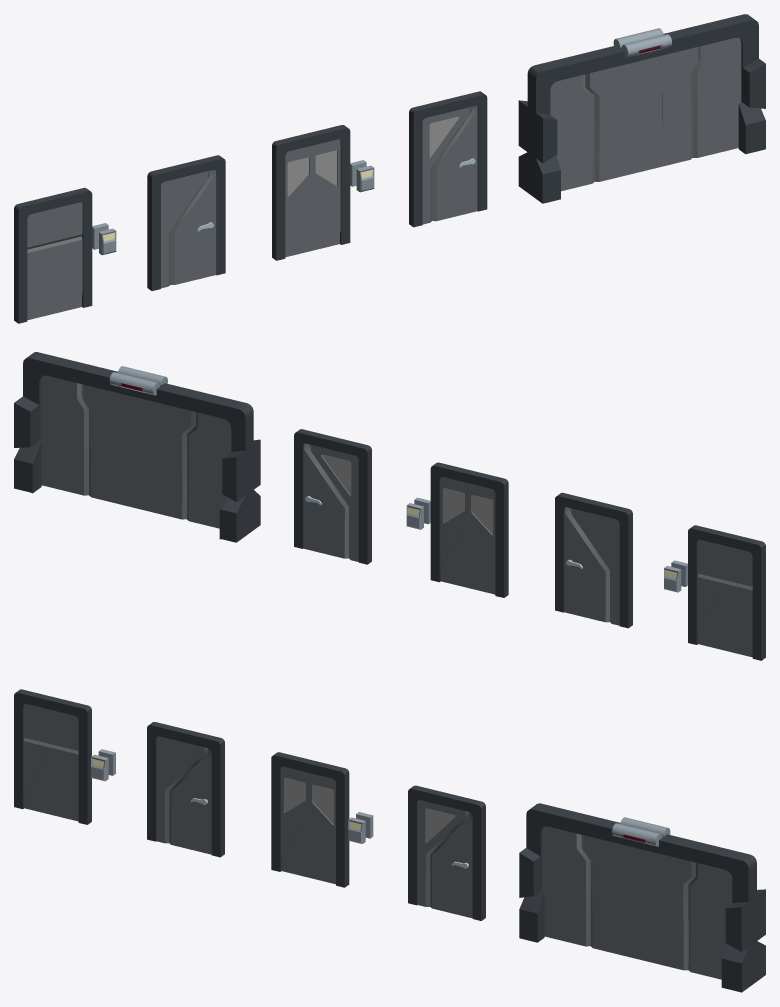
The model's file is DoorsHighPoly.fbx.
3 renders of one model, top to bottom at view 1: azimuth 30°, elevation 25°; view 2: azimuth 150°, elevation 25°; view 3: azimuth 330°, elevation 25°, orthographic.
Parts seen in each view (by area): view 1: Door_Frame_High (×2), Sliding_Door_1_High, Sliding_Door_2_High, Door_High, Door_NoWindow, Sliding_Door_1, Sliding_Door_4, Door_Frame, Door_Frame2, Door_Frame_High1, Sliding_Door_2, Sliding_Door_5; view 2: Door_Frame_High (×2), Sliding_Door_1_High, Sliding_Door_2_High, Door_High, Door_NoWindow, Sliding_Door_1, Sliding_Door_4, Door_Frame, Door_Frame2, Door_Frame_High1, Sliding_Door_5, Sliding_Door_2; view 3: Door_Frame_High (×2), Sliding_Door_1_High, Sliding_Door_2_High, Door_NoWindow, Door_High, Sliding_Door_4, Sliding_Door_1, Door_Frame, Door_Frame_High1, Door_Frame2, Sliding_Door_5, Sliding_Door_2.
Part boxes in pixels (box(x1,y1,x2,y2)): Door_Frame_High (×2): box(409, 14, 765, 227); Sliding_Door_1_High: box(550, 60, 661, 191); Sliding_Door_2_High: box(645, 37, 741, 170); Door_High: box(422, 106, 477, 224); Door_NoWindow: box(161, 170, 216, 288); Sliding_Door_1: box(285, 139, 340, 243); Sliding_Door_4: box(27, 202, 82, 306); Door_Frame: box(272, 125, 350, 260); Door_Frame2: box(14, 187, 92, 323); Door_Frame_High1: box(147, 155, 225, 290); Sliding_Door_2: box(285, 189, 339, 257); Sliding_Door_5: box(27, 252, 81, 320); Door_Frame_High (×2): box(14, 352, 371, 564); Sliding_Door_1_High: box(119, 397, 231, 528); Sliding_Door_2_High: box(40, 375, 136, 508); Door_High: box(303, 443, 358, 561); Door_NoWindow: box(564, 507, 619, 625); Sliding_Door_1: box(440, 477, 495, 580); Sliding_Door_4: box(697, 539, 752, 643); Door_Frame: box(430, 462, 508, 597); Door_Frame2: box(688, 525, 765, 660); Door_Frame_High1: box(555, 492, 632, 628); Sliding_Door_5: box(698, 589, 752, 657); Sliding_Door_2: box(441, 526, 495, 594); Door_Frame_High (×2): box(408, 785, 765, 992); Sliding_Door_1_High: box(542, 826, 654, 959); Sliding_Door_2_High: box(638, 848, 732, 979); Door_NoWindow: box(156, 736, 211, 854); Door_High: box(417, 800, 472, 918); Sliding_Door_4: box(23, 704, 78, 807); Sliding_Door_1: box(281, 766, 335, 870); Door_Frame: box(271, 752, 349, 887); Door_Frame_High1: box(147, 722, 224, 857); Door_Frame2: box(14, 689, 91, 824); Sliding_Door_5: box(24, 753, 78, 821); Sliding_Door_2: box(281, 816, 335, 884).
Bounding box in the file's own units: 51.47 × 8.81 × 2.93.
